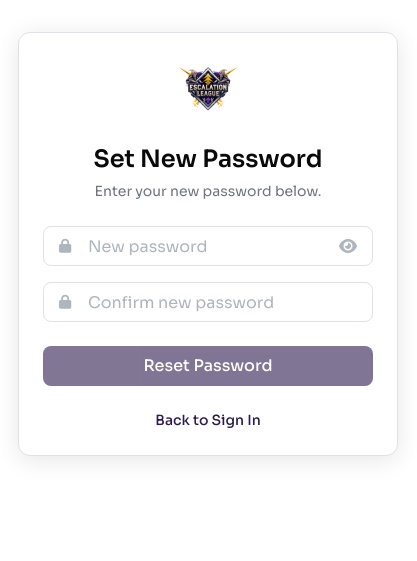
Test: ResetPassword › form interaction › should clear error when typing in password field
The width and height of the screenshot is (417, 561).
Type "validpassword123" into the password field with placeholder "New password" at (208, 246), box [43,226,373,266]
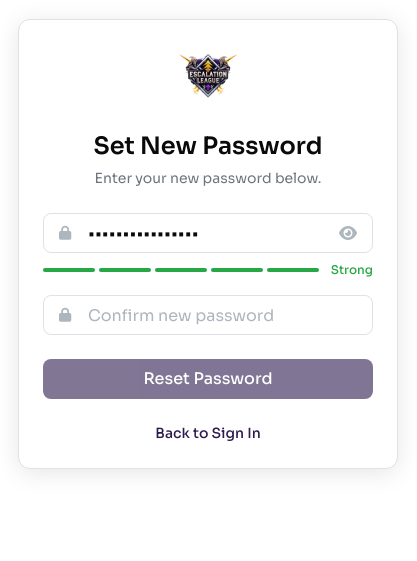
Type "validpassword123" into the password field with placeholder "Confirm new password" at (208, 315), box [43,295,373,335]
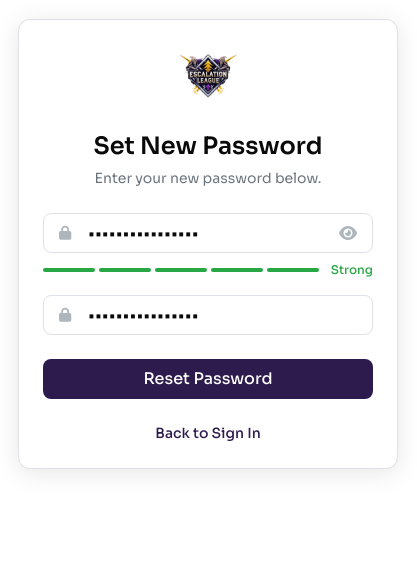
Click the button "Reset Password" at (208, 379), box [43,359,373,399]
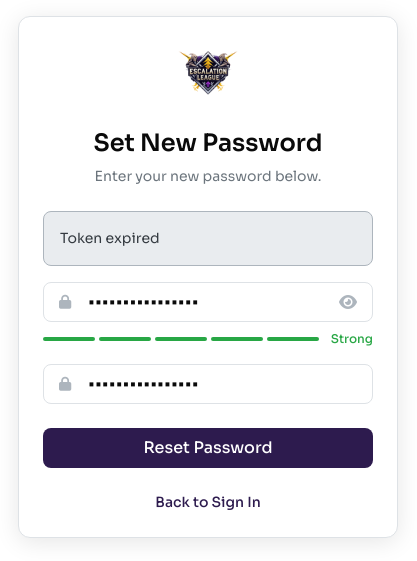
Result: the text "Token expired" is shown at [43,211,373,266]
Type "newpassword456" into the 1st password field with placeholder "New password" at (208, 302), box [43,282,373,322]
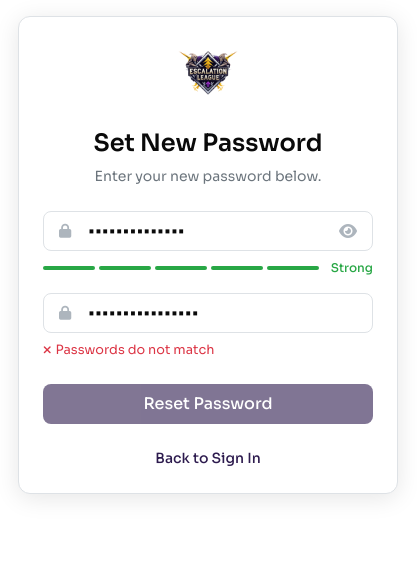
Result: the text "Token expired" is gone
